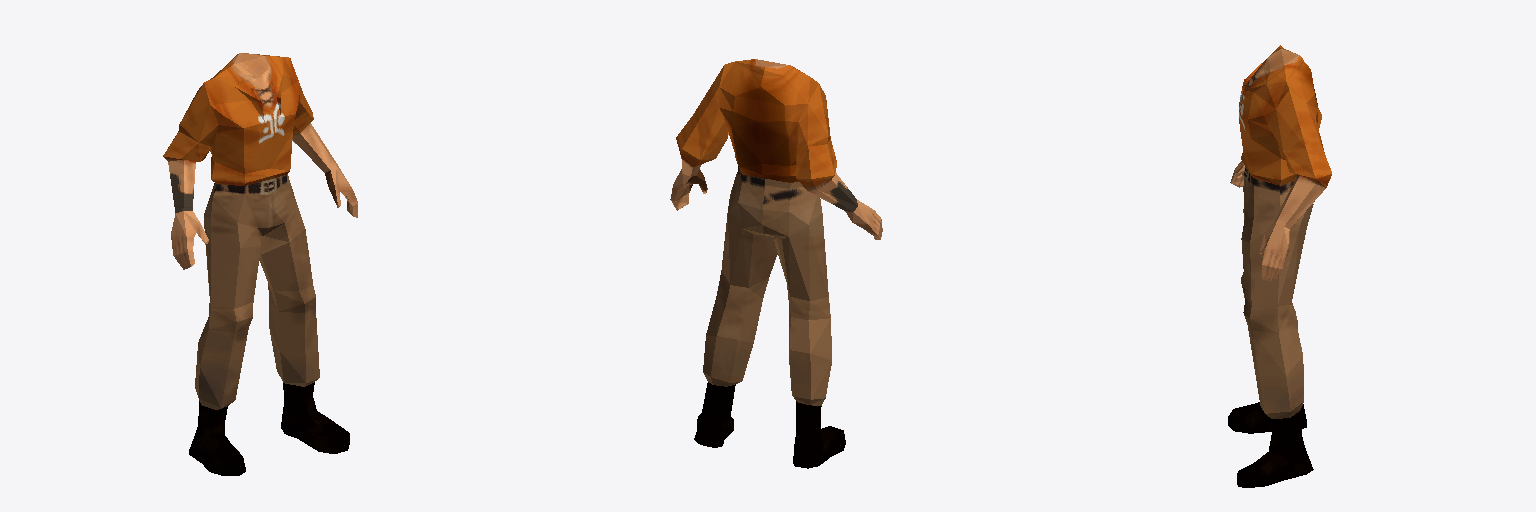
The picture shows the model from 3 angles: view 1: azimuth 30°, elevation 25°; view 2: azimuth 150°, elevation 25°; view 3: azimuth 270°, elevation 25°; orthographic projection.
Visible parts, largest first — view 1: 3cu_ba; view 2: 3cu_ba; view 3: 3cu_ba.
Part boxes in pixels (bbox=[...]): 3cu_ba: bbox=[163, 53, 357, 475]; 3cu_ba: bbox=[670, 59, 882, 468]; 3cu_ba: bbox=[1228, 45, 1331, 487].
Size of the model in its own units: 19.9 by 38.99 by 9.39.
Materials: 18 (16 with a texture image).